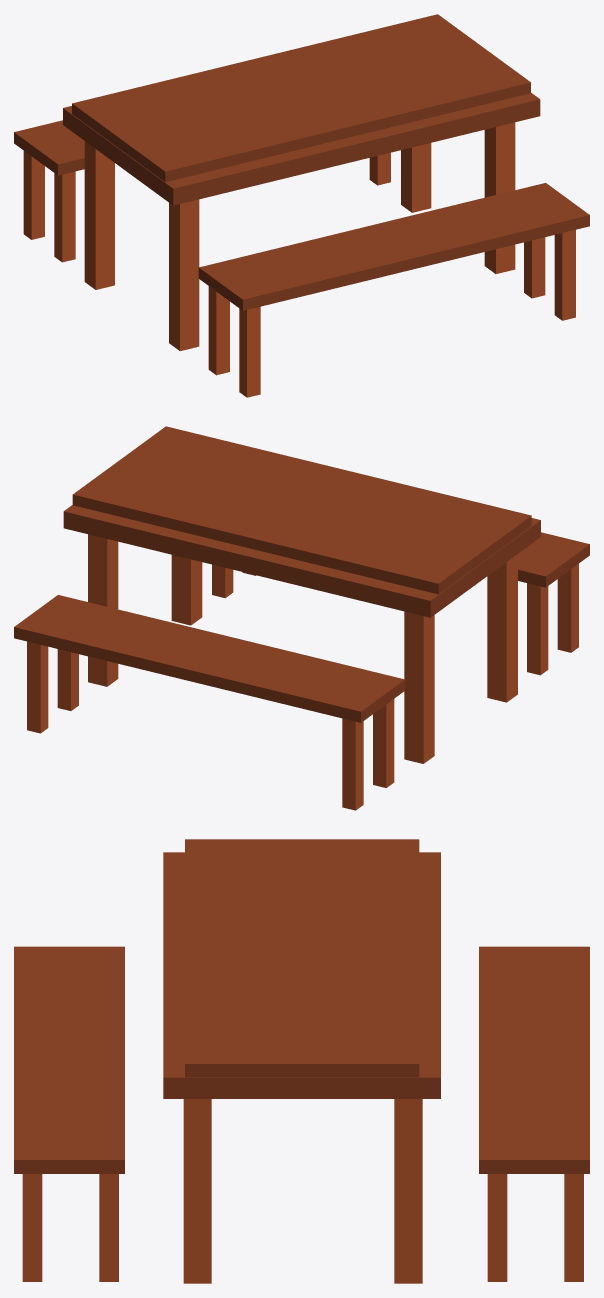
The model's file is Bank.fbx.
3 renders of one model, top to bottom at view 1: azimuth 30°, elevation 25°; view 2: azimuth 150°, elevation 25°; view 3: azimuth 270°, elevation 25°, orthographic. The views are drawn at different scales.
Visible parts, largest first — view 1: Cube.004, Cube.009, Cube, Cube.003, Cube.001, Cube.014, Cube.002, Cube.006, Cube.011, Cube.007, Cube.010, Cube.005 (+2 smaller); view 2: Cube.004, Cube.014, Cube.003, Cube, Cube.002, Cube.009, Cube.001, Cube.005, Cube.010, Cube.013, Cube.011, Cube.006 (+2 smaller); view 3: Cube.004, Cube.009, Cube.014, Cube.001, Cube.002, Cube.007, Cube.012, Cube.008, Cube.013.
Part boxes in pixels (x1,y1,x2,y2): Cube.004: (63,14,540,205); Cube.009: (198,183,589,310); Cube: (169,199,199,351); Cube.003: (84,141,114,289); Cube.001: (484,122,515,273); Cube.014: (14,120,84,175); Cube.002: (401,143,431,212); Cube.006: (239,306,260,397); Cube.011: (54,171,75,262); Cube.007: (554,230,575,320); Cube.010: (23,151,44,239); Cube.005: (208,286,229,375); Cube.004: (63,426,540,617); Cube.014: (14,595,405,722); Cube.003: (404,611,434,763); Cube: (487,554,517,702); Cube.002: (88,534,118,686); Cube.009: (518,532,589,587); Cube.001: (171,555,202,625); Cube.005: (527,583,548,675); Cube.010: (342,718,363,810); Cube.013: (27,641,48,733); Cube.011: (373,699,394,787); Cube.006: (557,563,578,652); Cube.004: (163,839,440,1098); Cube.009: (14,946,124,1173); Cube.014: (479,946,589,1173); Cube.001: (183,1099,211,1283); Cube.002: (394,1099,422,1283); Cube.007: (22,1174,42,1281); Cube.012: (487,1174,507,1281); Cube.008: (99,1174,118,1281); Cube.013: (564,1174,583,1281).
Bounding box in the file's own units: 760 × 362 × 822.
